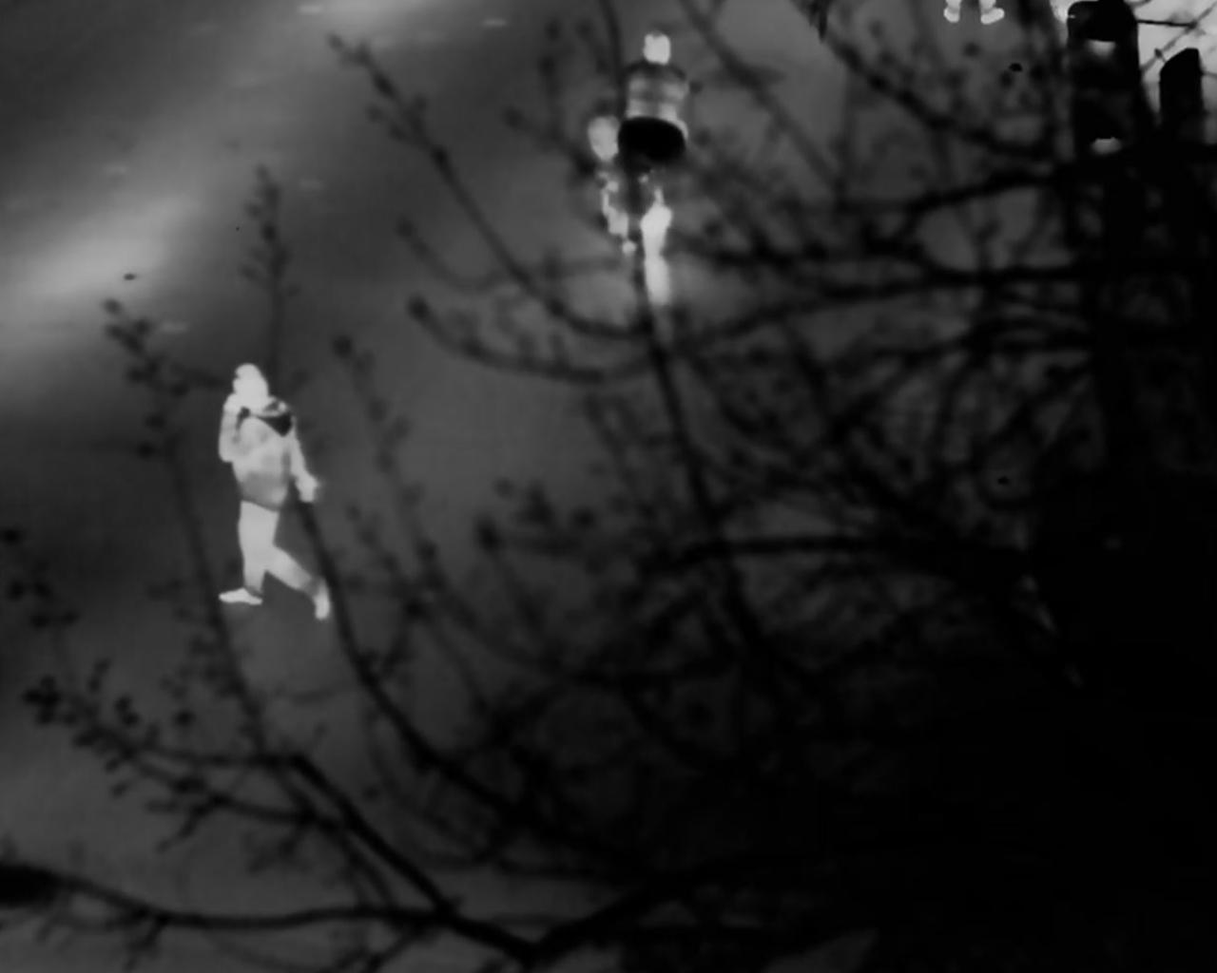person: (206, 356, 332, 603), (611, 25, 714, 282)
